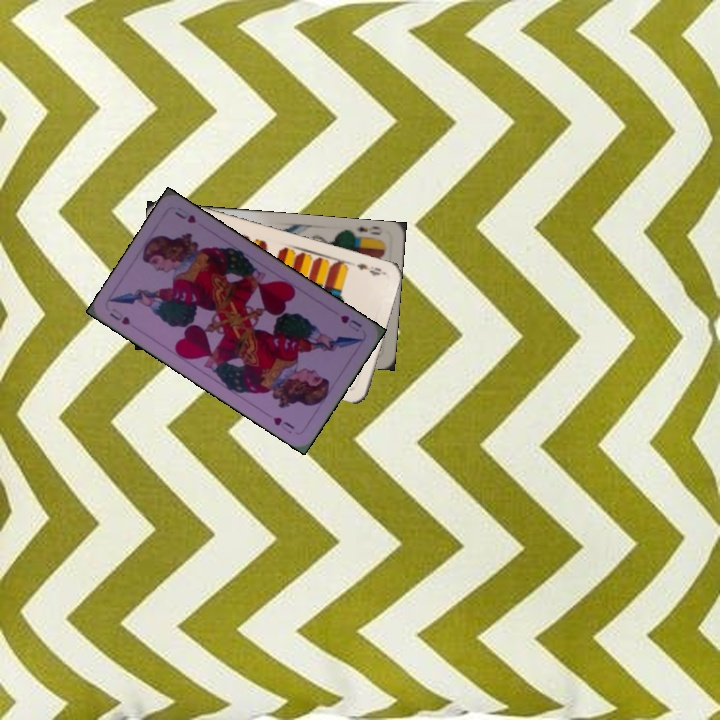E9: (353, 259, 387, 278)
EO: (349, 223, 383, 242)
HU: (336, 311, 364, 335), (106, 304, 133, 328)
